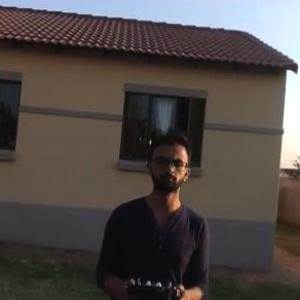follow: (92, 125, 218, 299)
